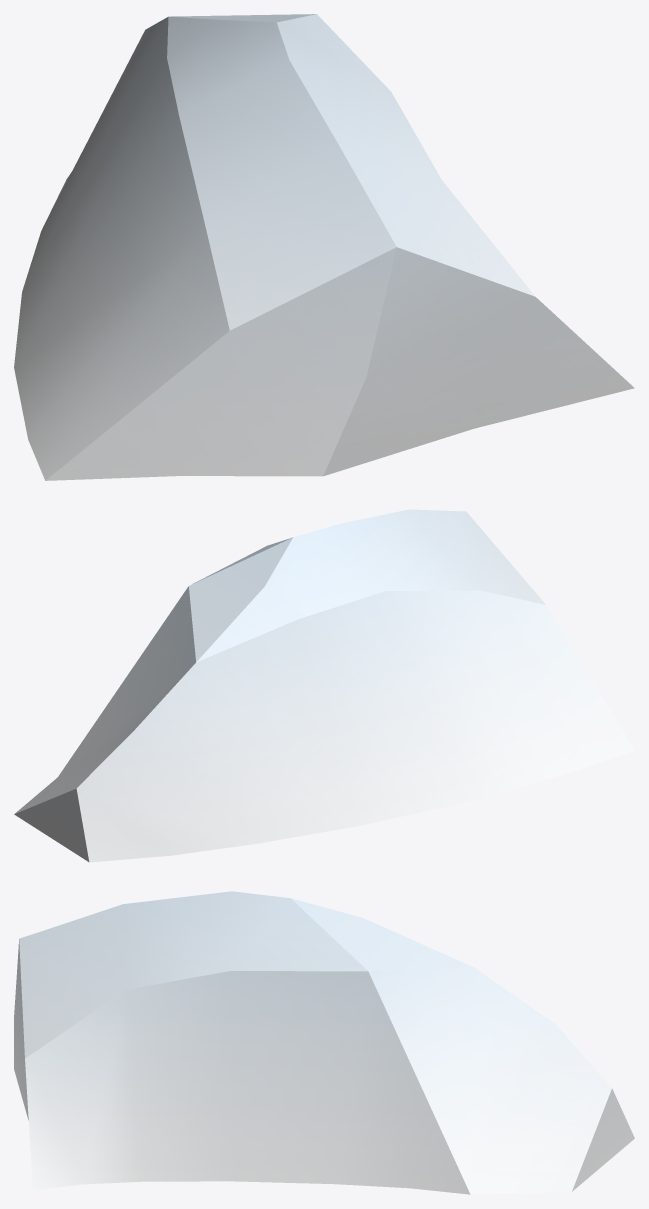
The model's file is Mountain_Stone_White_001.FBX.
3 views of the same model, one above another, from view 1: azimuth 30°, elevation 25°; view 2: azimuth 150°, elevation 25°; view 3: azimuth 270°, elevation 25° (orthographic). The views are drawn at different scales.
Parts seen in each view (by area): view 1: Mountain_Stone_White_001; view 2: Mountain_Stone_White_001; view 3: Mountain_Stone_White_001.
Boxes of the visible parts, bbox=[...] form: Mountain_Stone_White_001: bbox=[14, 14, 634, 480]; Mountain_Stone_White_001: bbox=[14, 509, 634, 862]; Mountain_Stone_White_001: bbox=[14, 891, 634, 1194].
Size of the model in its own units: 427 by 215 by 547.
Materials: 1 (1 with a texture image).
